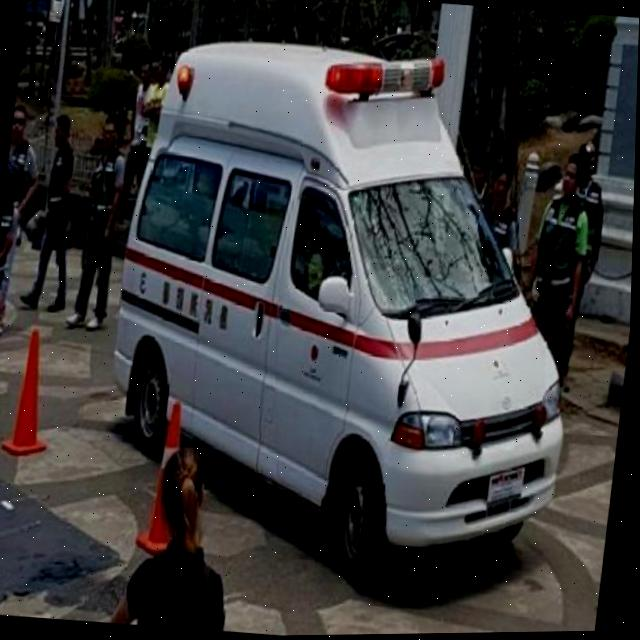emergency: (88, 23, 611, 599)
